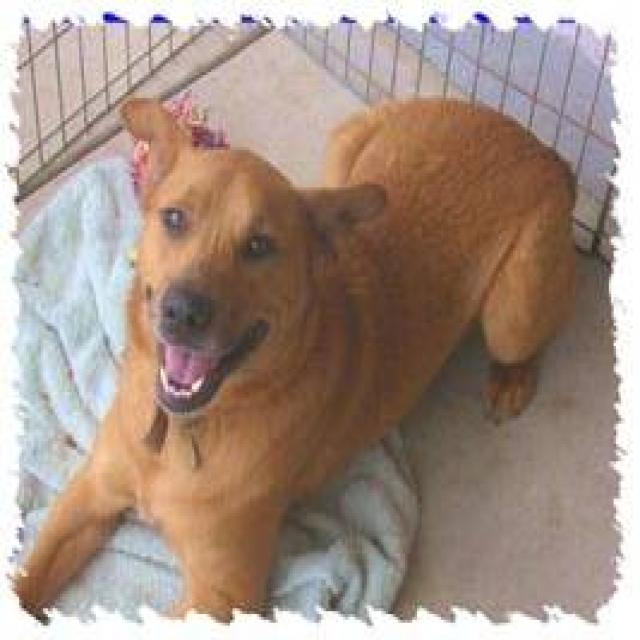dog: (7, 89, 578, 623)
